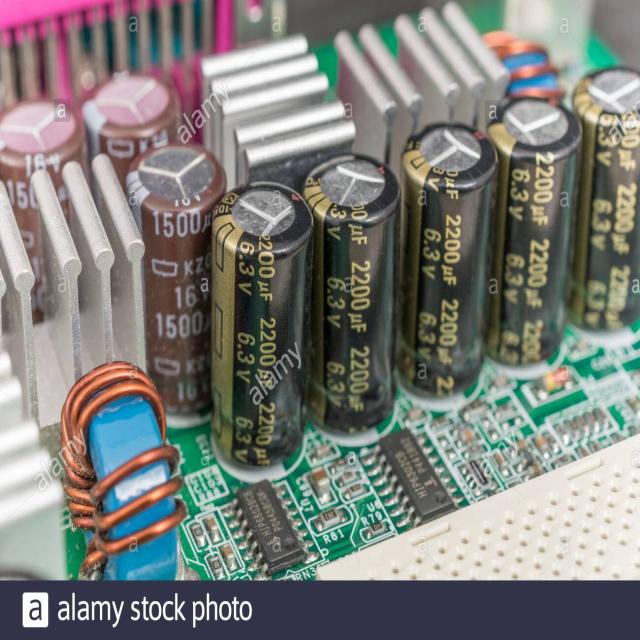capacitor: (209, 181, 312, 465), (402, 120, 499, 392), (129, 142, 227, 410), (306, 154, 398, 428), (494, 94, 581, 364), (575, 66, 640, 328)
